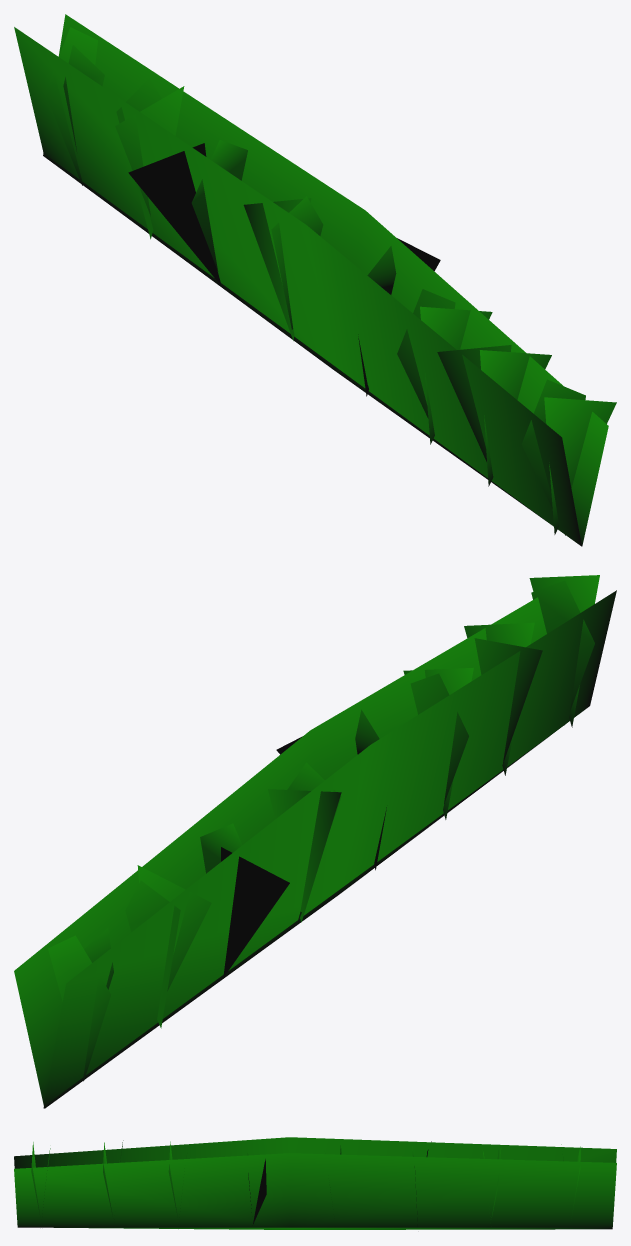
File: RiceRow_3.fbx
The picture shows the model from 3 angles, top to bottom: view 1: azimuth 30°, elevation 25°; view 2: azimuth 150°, elevation 25°; view 3: azimuth 270°, elevation 25°; orthographic projection. The views are drawn at different scales.
Visible parts, largest first — view 1: RiceRow_3_LOD0; view 2: RiceRow_3_LOD0; view 3: RiceRow_3_LOD0.
Part boxes in pixels (x1,y1,x2,y2): RiceRow_3_LOD0: [14, 14, 616, 546]; RiceRow_3_LOD0: [14, 575, 616, 1108]; RiceRow_3_LOD0: [14, 1137, 616, 1229].
Size of what is drawn, in the model's own units: 49.98 by 45.46 by 289.
